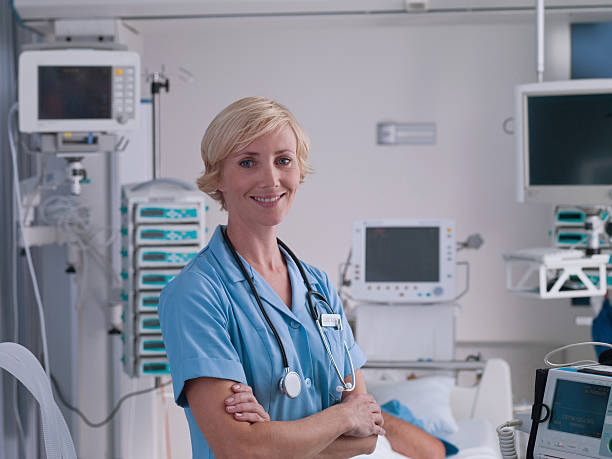bedside_monitor: (513, 82, 612, 204), (16, 50, 140, 130), (520, 351, 612, 458), (354, 219, 458, 301)
breathing_tube: (1, 342, 80, 459)
hospital_bed: (352, 352, 516, 449)
staff: (161, 94, 386, 459)
syringe_pump: (130, 194, 207, 225), (124, 269, 203, 292), (127, 243, 206, 266), (127, 224, 206, 246), (138, 358, 183, 380), (130, 290, 170, 311), (129, 312, 169, 333), (134, 336, 174, 357)
